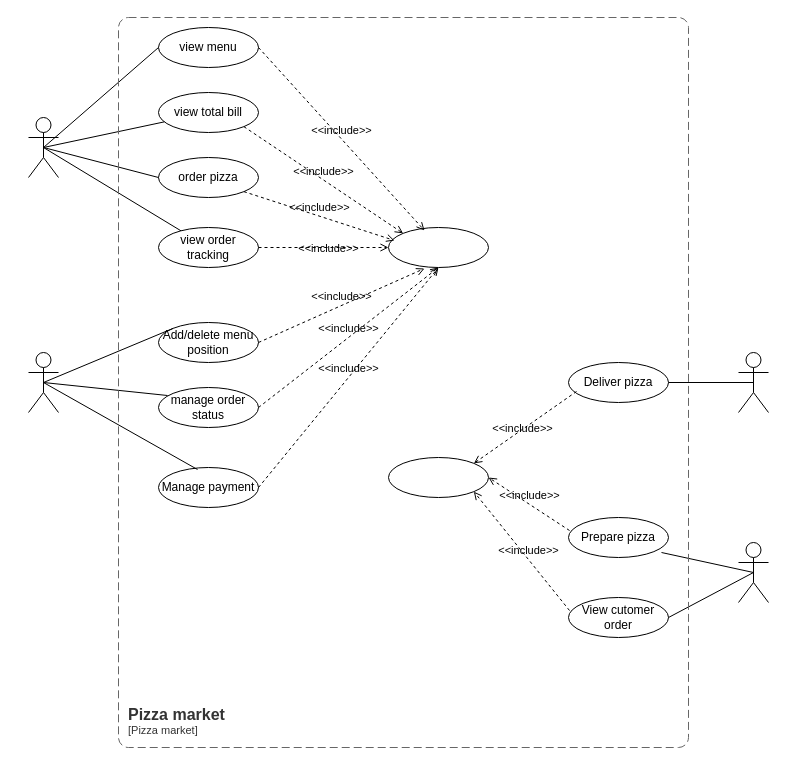
Image size: 792x765. Some labels were removed from this diagram. The shapes that lost their labels are listed below. From the top down, each one's box as (x1, y1, x2, y2) in pixels, then its label:
(28, 116, 58, 178): Customer
(388, 226, 488, 268): Log in
(28, 352, 58, 412): Admin
(738, 352, 768, 412): Delivery
(388, 456, 488, 498): Recieve order
(738, 542, 768, 602): Chef
